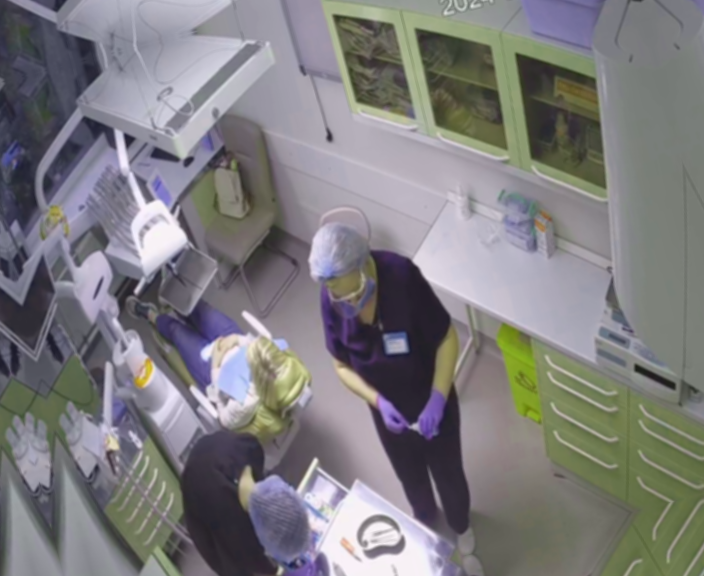Patient: (125, 257, 328, 479)
